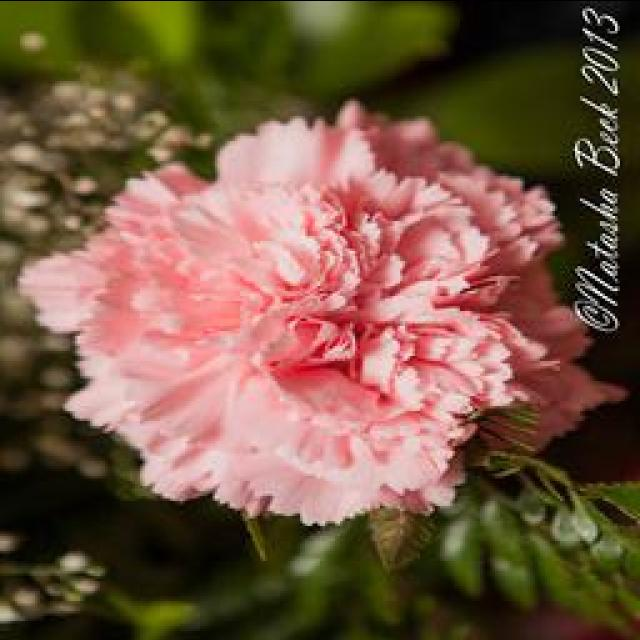carnation: (39, 92, 591, 532)
